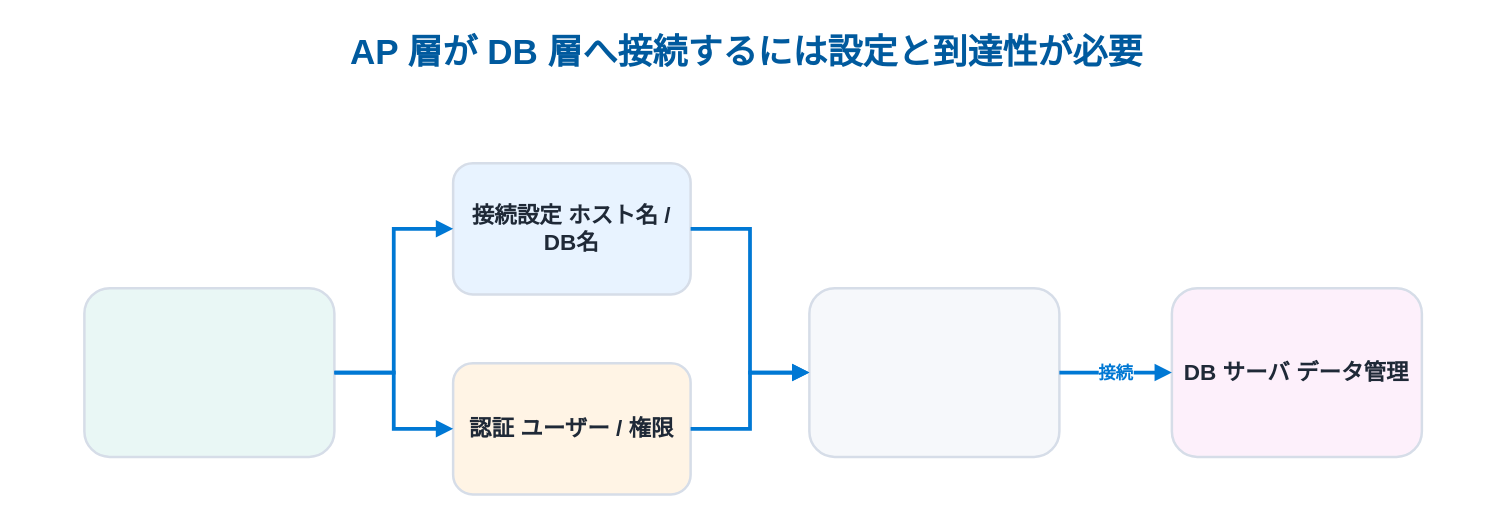
Some shapes in this 1493 by 516 pixel diagram are drawn without their labels. The shapes that lost their labels are listed below. From the top down, each one's centre as x and y in pixels, then its label:
At (x=208, y=372): "AP サーバ アプリ処理".
At (x=934, y=372): "ネットワーク到達性 通信経路".
